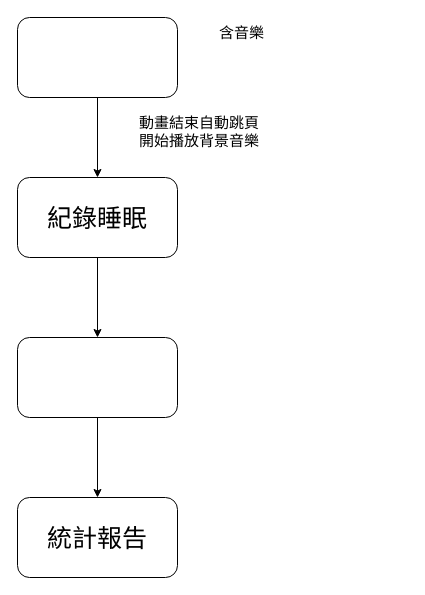
Image size: 425x595. Some labels were removed from this diagram. Here are the shapes that lost their labels. From the top down, the centre of each, then its label:
[97,57]: 開頭動畫
[97,377]: 送出表單結果
